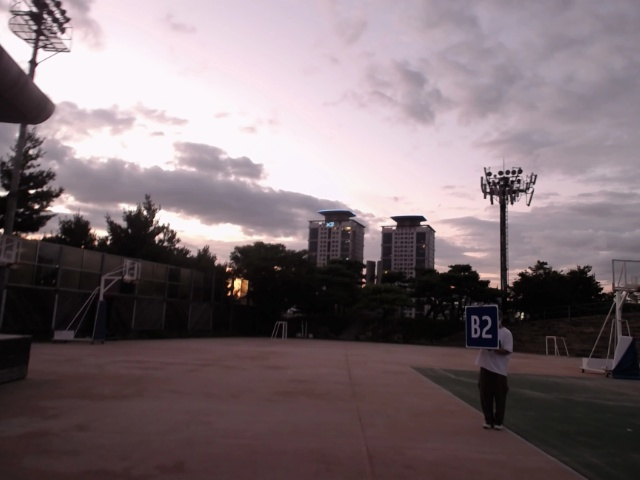delivery_b2: (464, 304, 500, 351)
